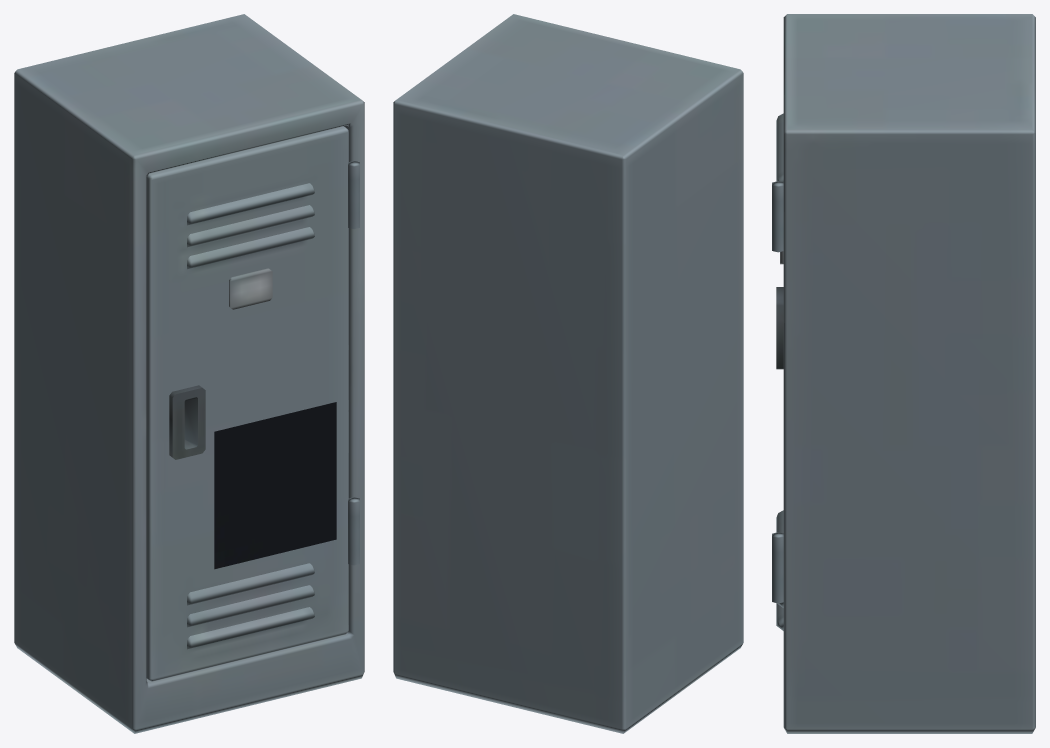
File: upright-locker.glb
3 views of the same model, side by side, from view 1: azimuth 30°, elevation 25°; view 2: azimuth 150°, elevation 25°; view 3: azimuth 270°, elevation 25° (orthographic). The views are drawn at different scales.
Size of the model in its own units: 7.8 by 18.5 by 7.32.
Materials: 3 (3 with a texture image).
